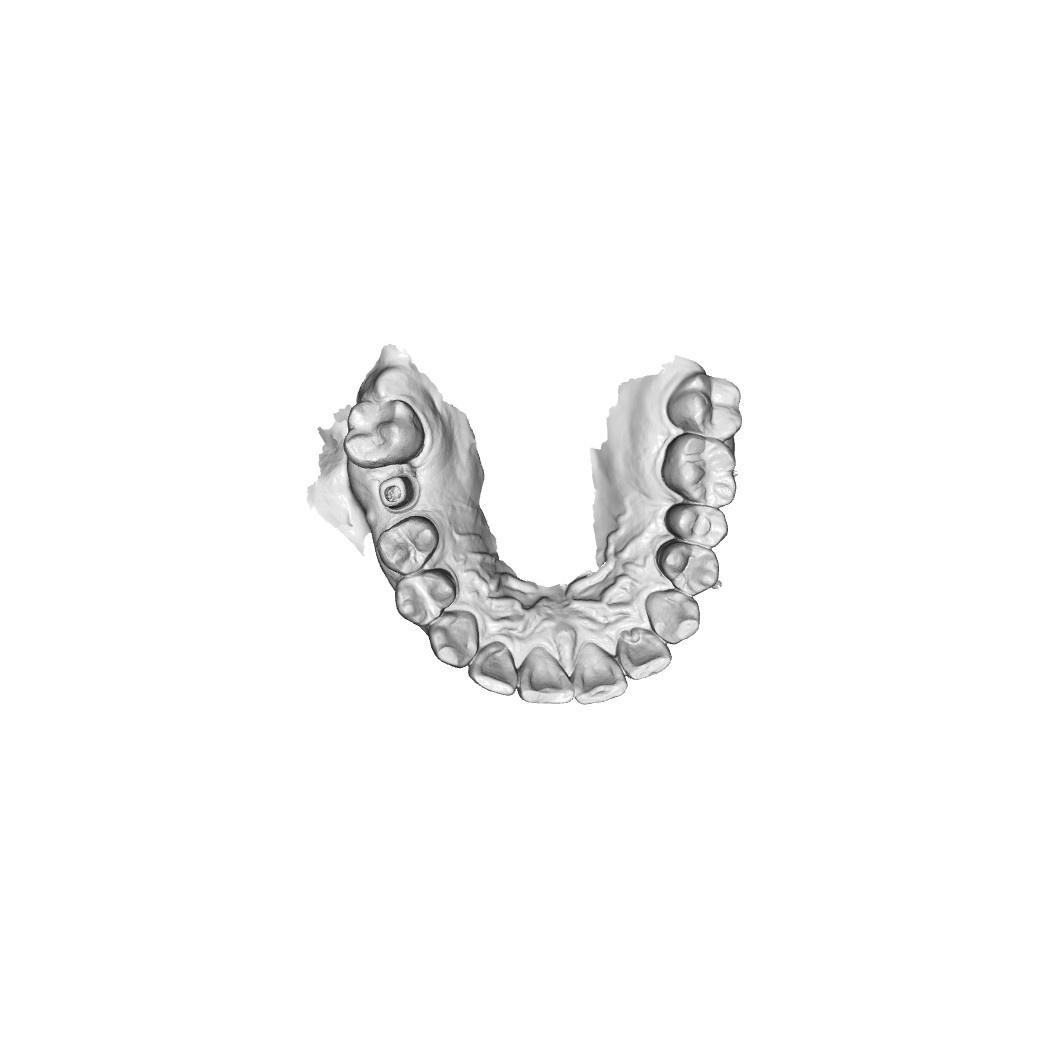canine: (647, 588, 703, 640), (430, 612, 480, 669)
implant: (376, 475, 422, 512)
incisor: (616, 628, 677, 685), (574, 641, 630, 703), (519, 647, 576, 702), (463, 643, 520, 696)
molar: (342, 400, 422, 468), (667, 374, 746, 440), (664, 436, 738, 505)
premolar: (660, 543, 722, 598), (378, 520, 436, 576), (396, 570, 456, 623), (668, 503, 725, 551)
